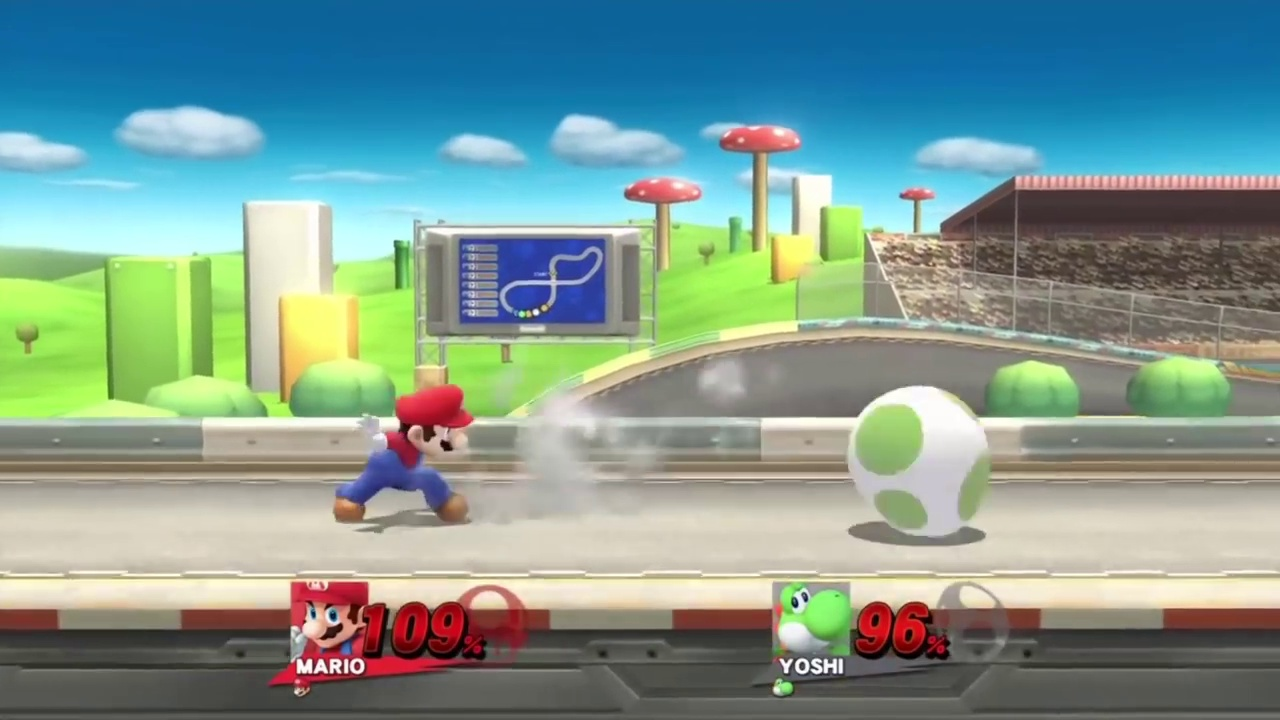Mario: (335, 385, 472, 524)
